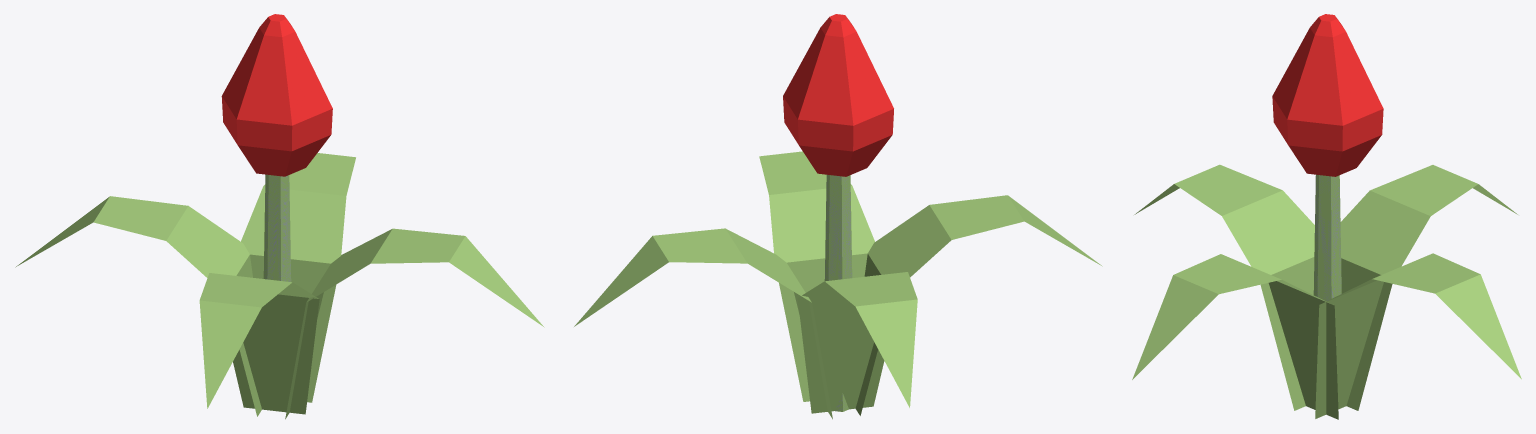
The model's file is Flower_Bud_02.fbx.
3 renders of one model, left to right at view 1: azimuth 30°, elevation 25°; view 2: azimuth 150°, elevation 25°; view 3: azimuth 270°, elevation 25°, orthographic.
Parts seen in each view (by area): view 1: Model; view 2: Model; view 3: Model.
Part boxes in pixels (x1=…): Model: x1=15, y1=14, x2=544, y2=419; Model: x1=574, y1=14, x2=1102, y2=419; Model: x1=1132, y1=14, x2=1521, y2=419.
Size of the model in its own units: 104 by 114 by 104.
